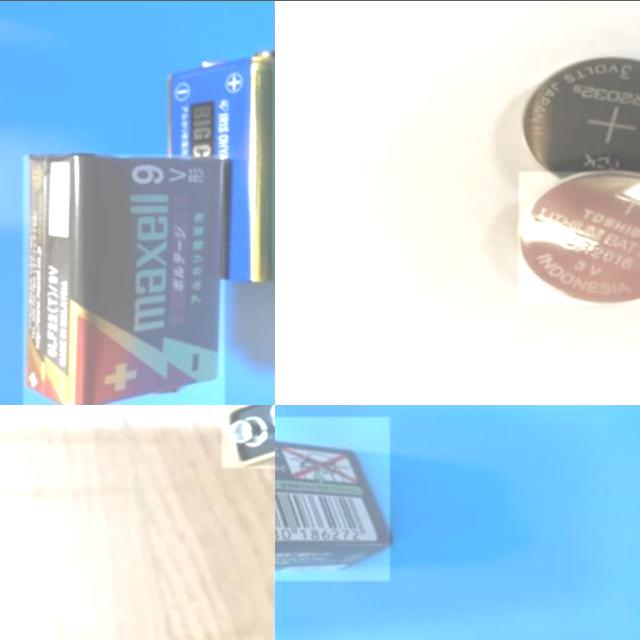9V: (23, 154, 224, 404), (166, 48, 275, 283), (275, 416, 390, 580)
